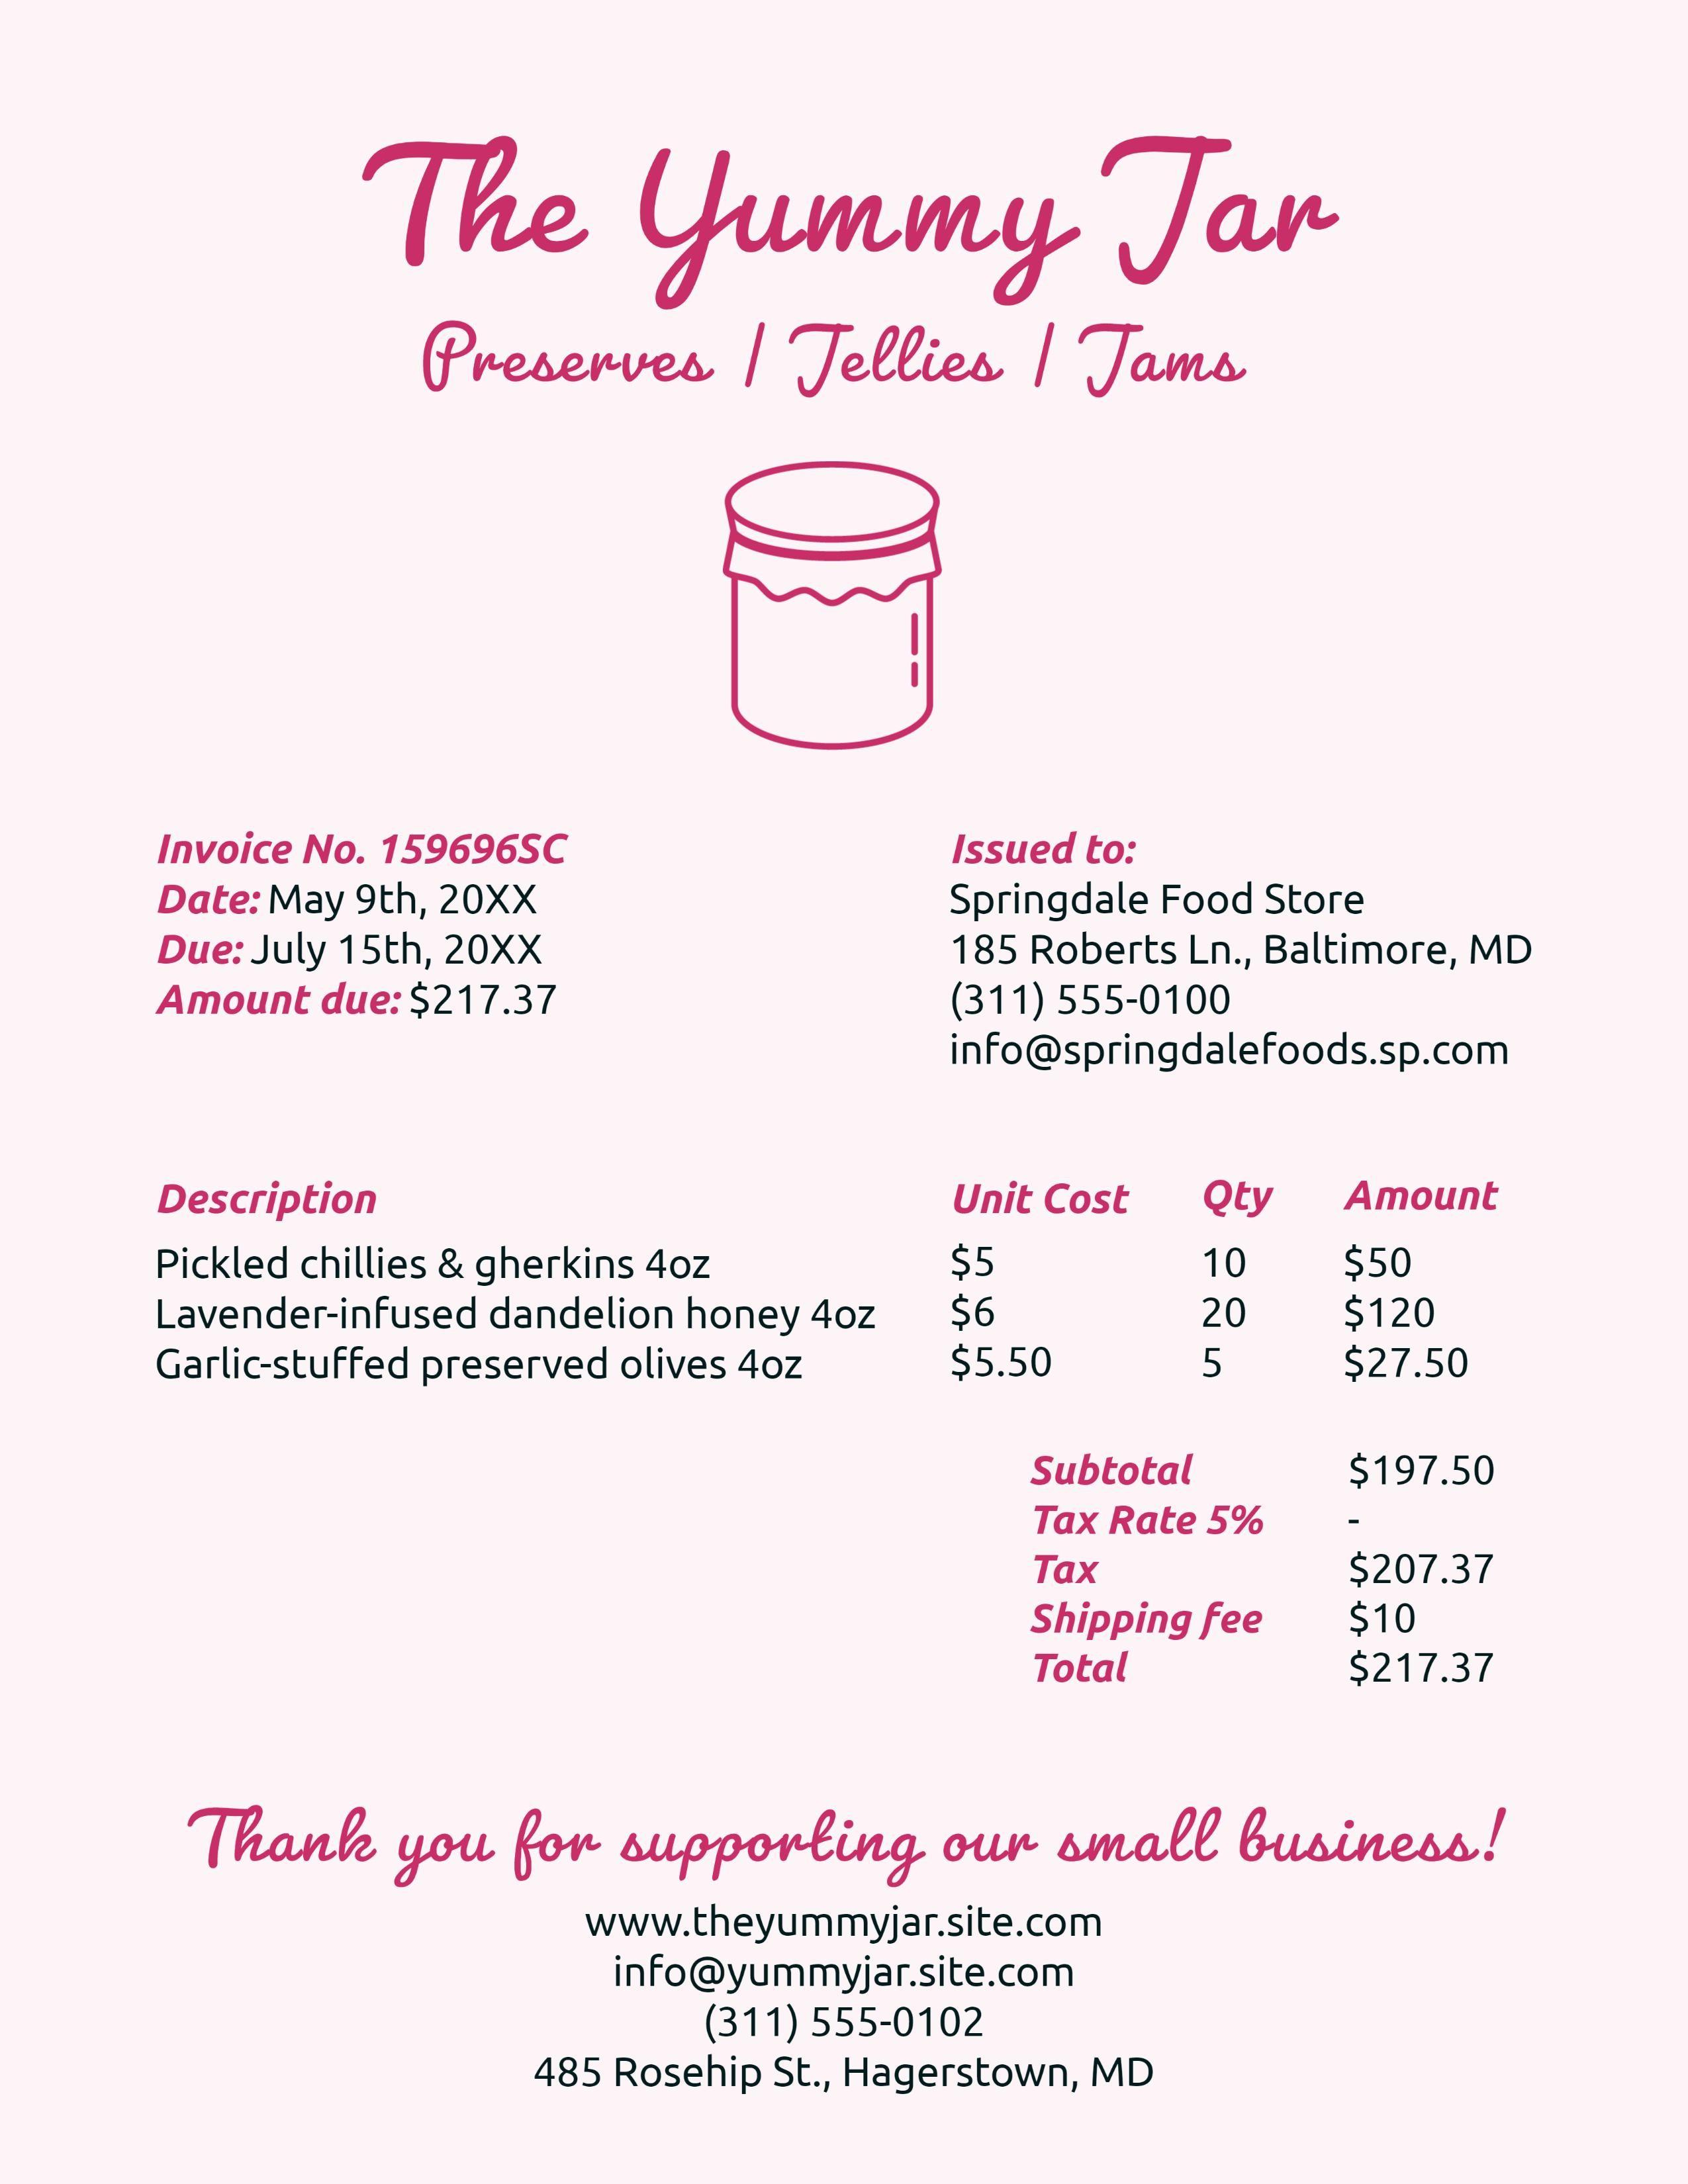ROI: (120, 1126, 1548, 1420), (343, 89, 1384, 447), (915, 812, 1568, 1093), (1000, 1440, 1526, 1730), (146, 805, 592, 1045)
